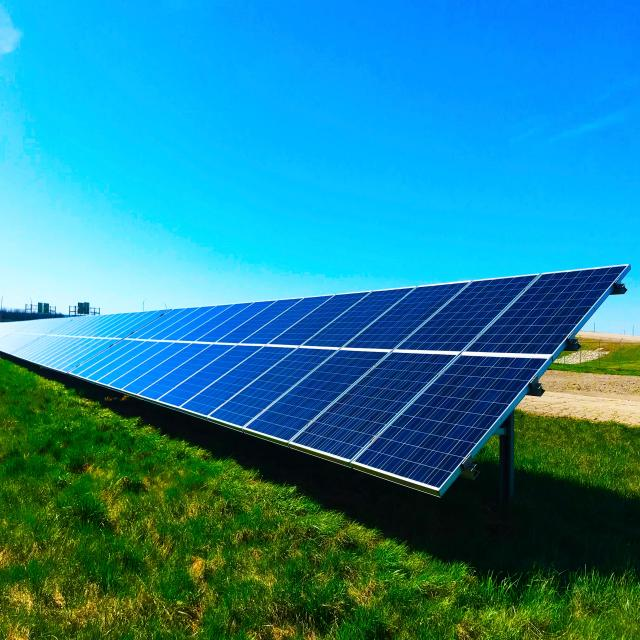clean-solar-panel: (0, 265, 630, 497)
